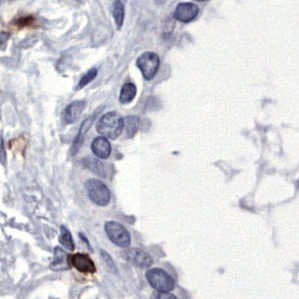Lymphocyte: (66, 251, 99, 275)
